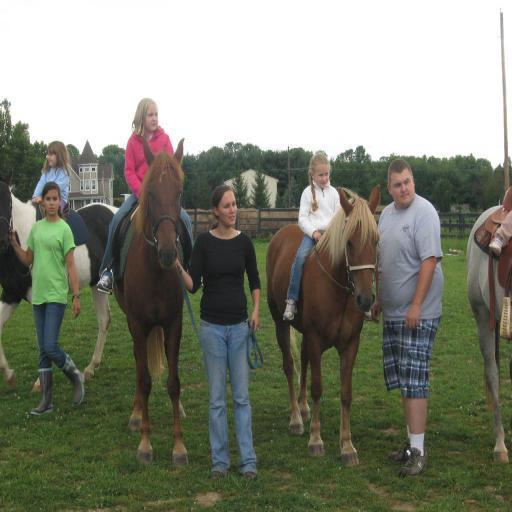horse: (268, 184, 382, 466), (0, 165, 120, 395), (110, 133, 186, 466), (465, 202, 512, 466)
